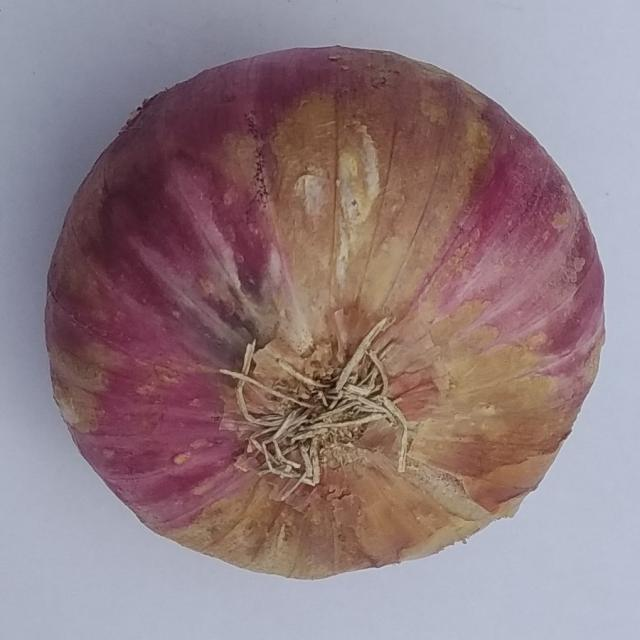onion: (43, 44, 609, 582)
